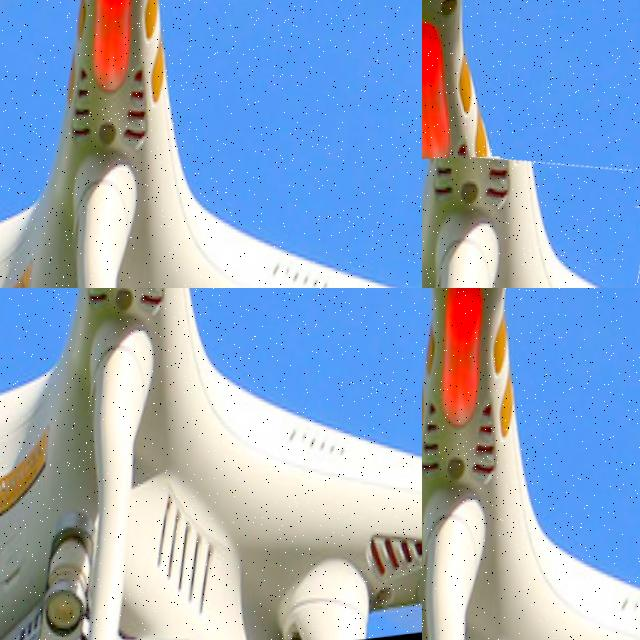drone: (0, 288, 422, 640), (0, 0, 422, 288), (422, 288, 640, 640), (422, 151, 640, 288)
